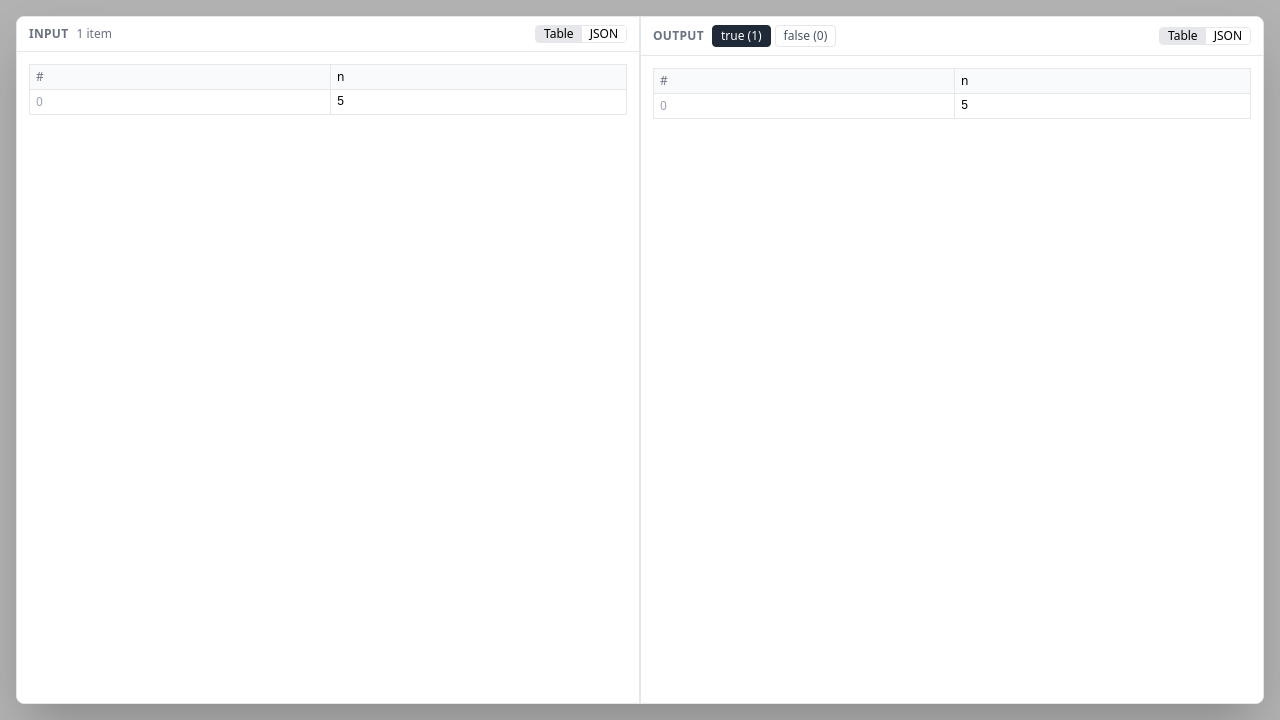
Test case: NodeDetailsView › shows what came in and each output, named by the node type
The width and height of the screenshot is (1280, 720).
expect the table with test id "items-table" shows "5": met, box 337,95 -> 344,109
expect the button with test id "port-true" reads "true (1)": met, box 712,25 -> 771,47
Click the button with test id "view-json" in the row of "Output".
click(1228, 36)  # box 1206,28 -> 1250,44
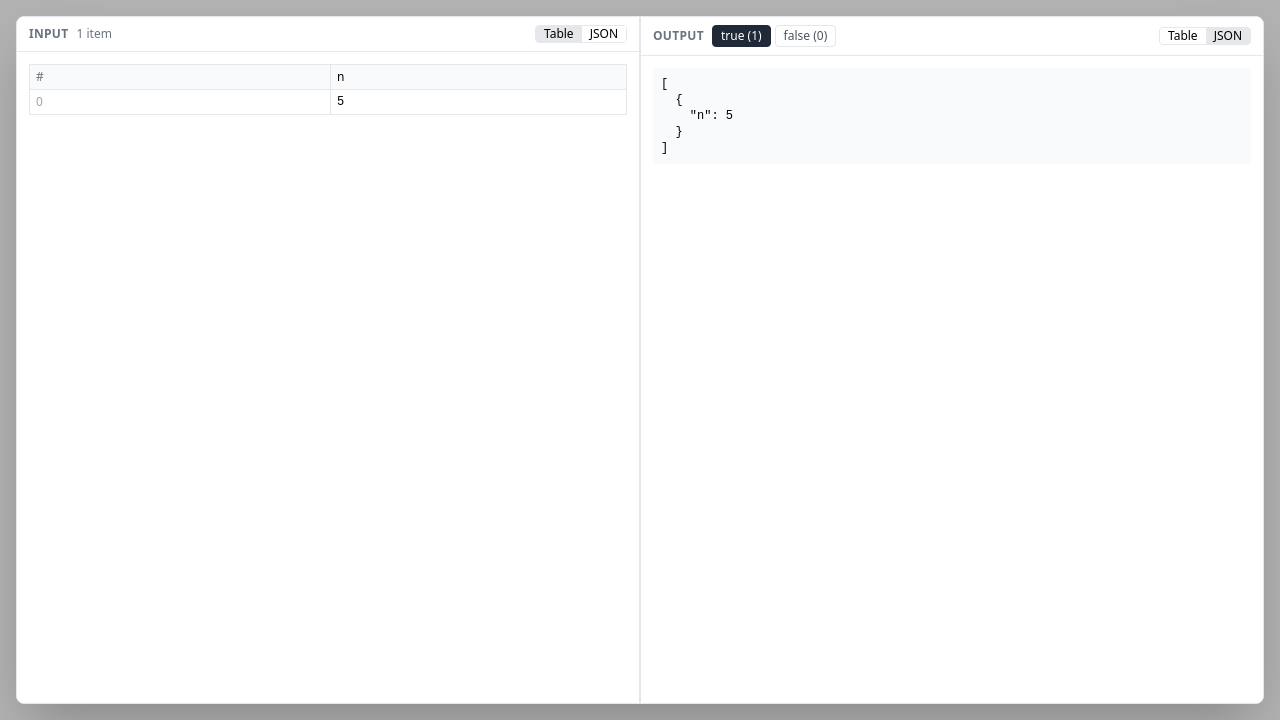
expect the text with test id "items-json" shows "\"n\": 5": met, box 661,77 -> 733,155
